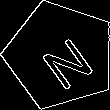N_NW: (28, 23, 93, 88)
